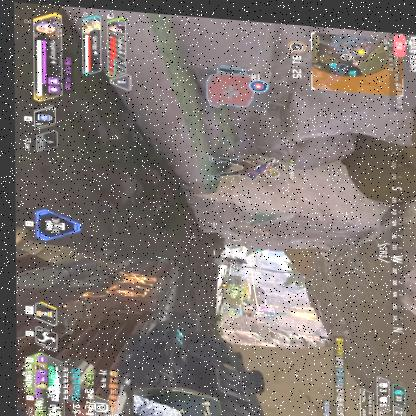streamer: (132, 391, 246, 416)
